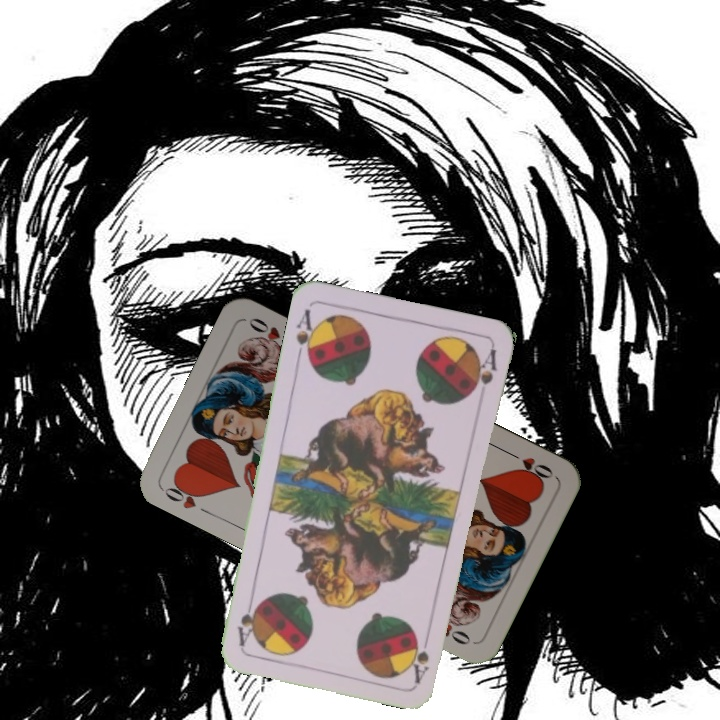HO: (160, 476, 214, 518), (502, 446, 556, 483)
SA: (292, 305, 321, 365), (409, 627, 433, 685)
